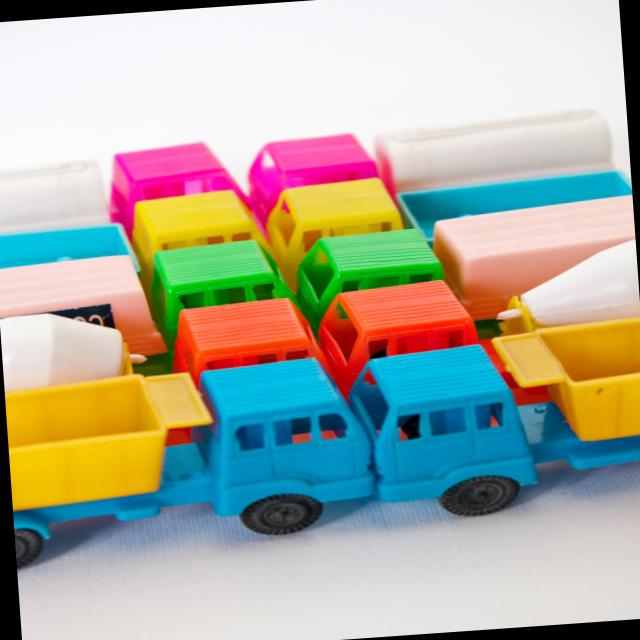Toy: (0, 104, 640, 570)
